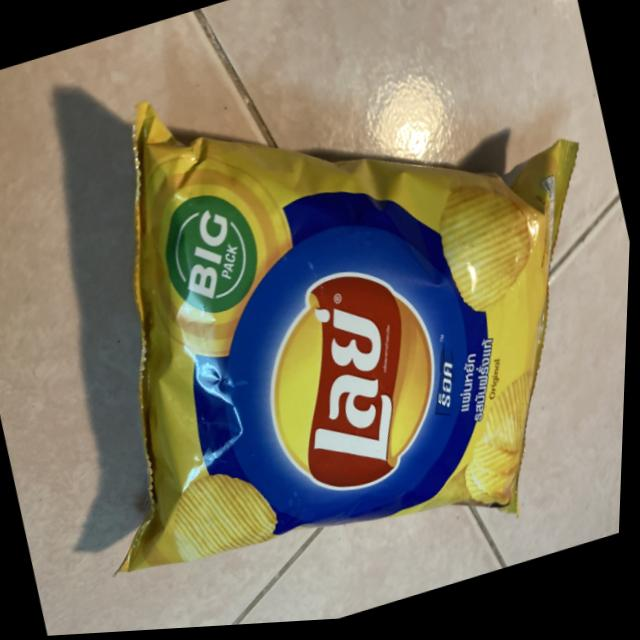LayYellow: (34, 34, 638, 608)
